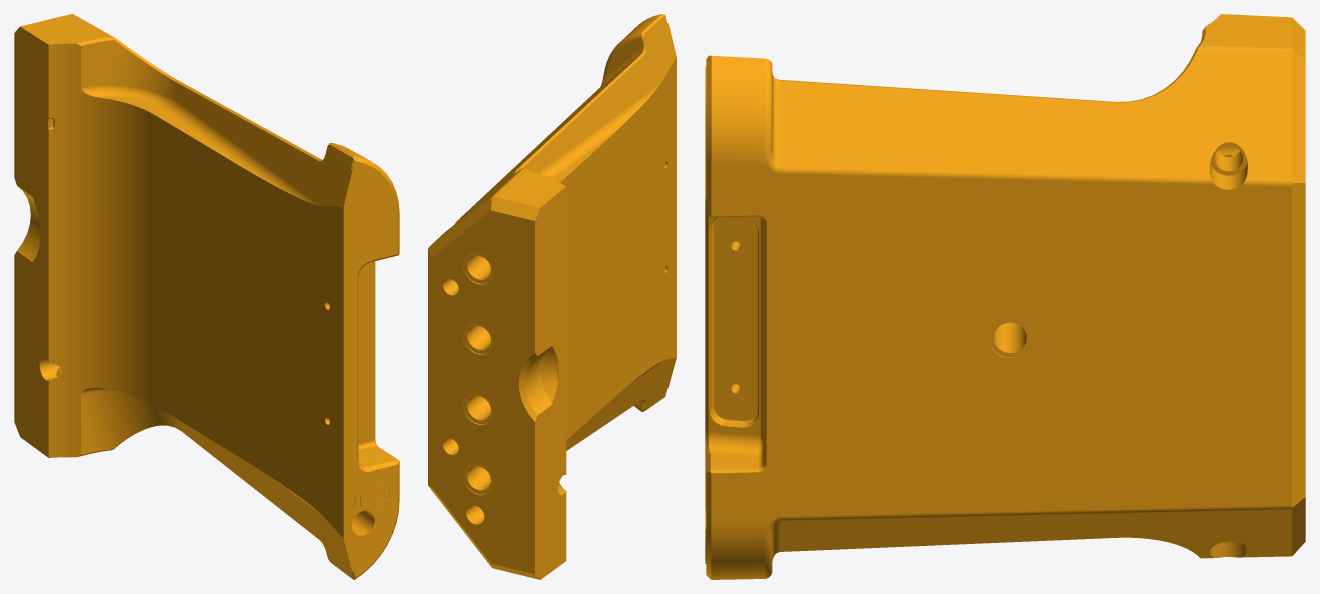
The model's file is mold.dae.
The picture shows the model from 3 angles, left to right: view 1: azimuth 30°, elevation 25°; view 2: azimuth 150°, elevation 25°; view 3: azimuth 270°, elevation 25°; orthographic projection. The views are drawn at different scales.
Visible parts, largest first — view 1: Body1_Opaque(250_168_18); view 2: Body1_Opaque(250_168_18); view 3: Body1_Opaque(250_168_18).
Boxes of the visible parts, x1,y1,x2,y2 form: Body1_Opaque(250_168_18): (14,14,399,579); Body1_Opaque(250_168_18): (428,14,676,579); Body1_Opaque(250_168_18): (705,14,1305,579).
Size of the model in its own units: 0.0862 by 0.25 by 0.2434.
